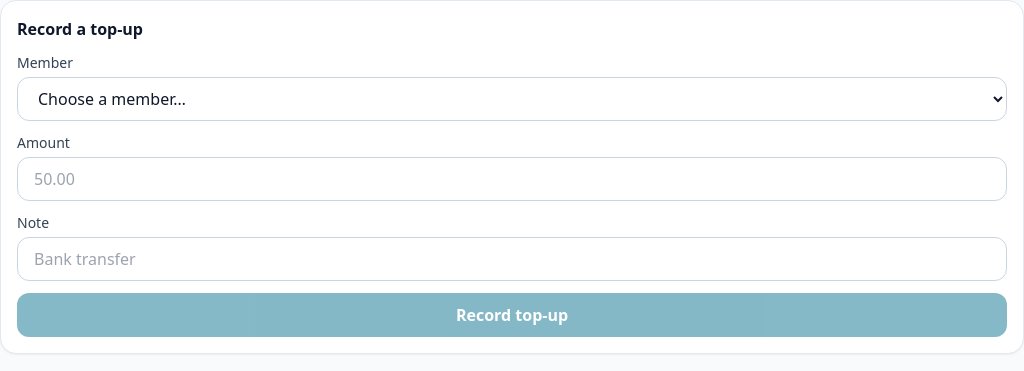
it: TopupForm › clears itself and tells the page once the top-up is recorded
Select "Karthik" in the dropdown labelled "Member": (512, 99) [17,77,1007,121]
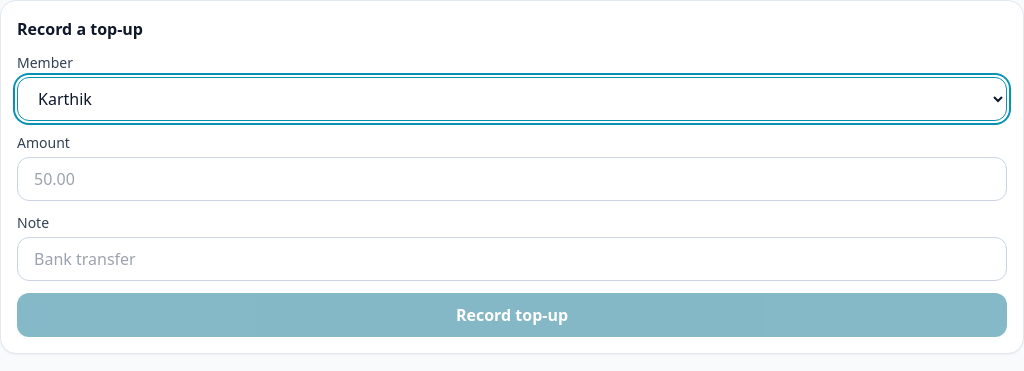
In the number field labelled "Amount": (512, 179) [17,157,1007,201], type "50"
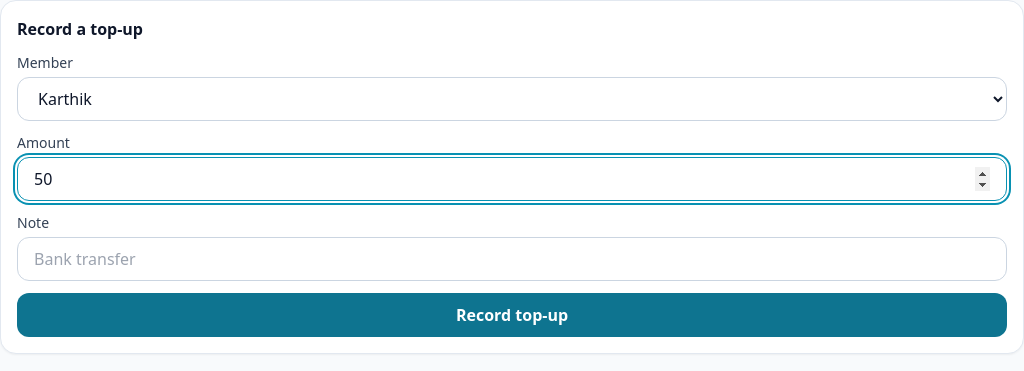
Click the button "Record top-up": (512, 315) [17,293,1007,337]
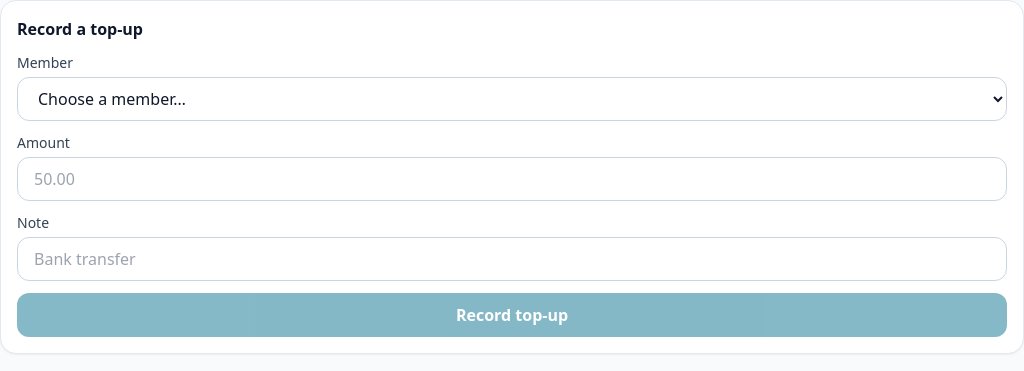
Check: the number field labelled "Amount" is not empty, box [17,157,1007,201]
